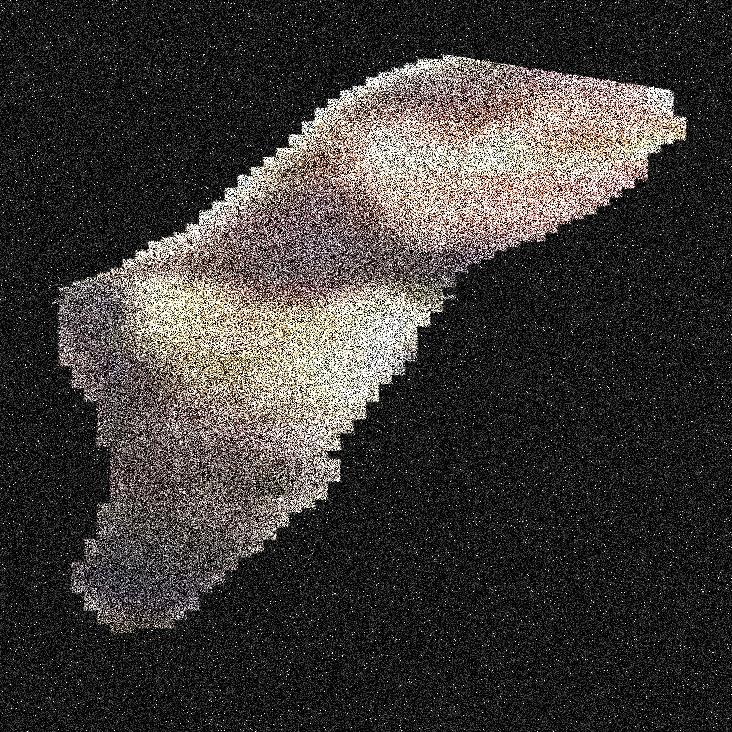Pessoa: (217, 0, 365, 731)
